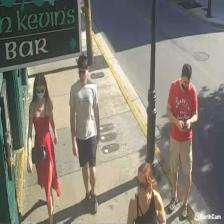person: (70, 55, 100, 212), (167, 64, 198, 214), (27, 72, 57, 224), (126, 162, 166, 224)
